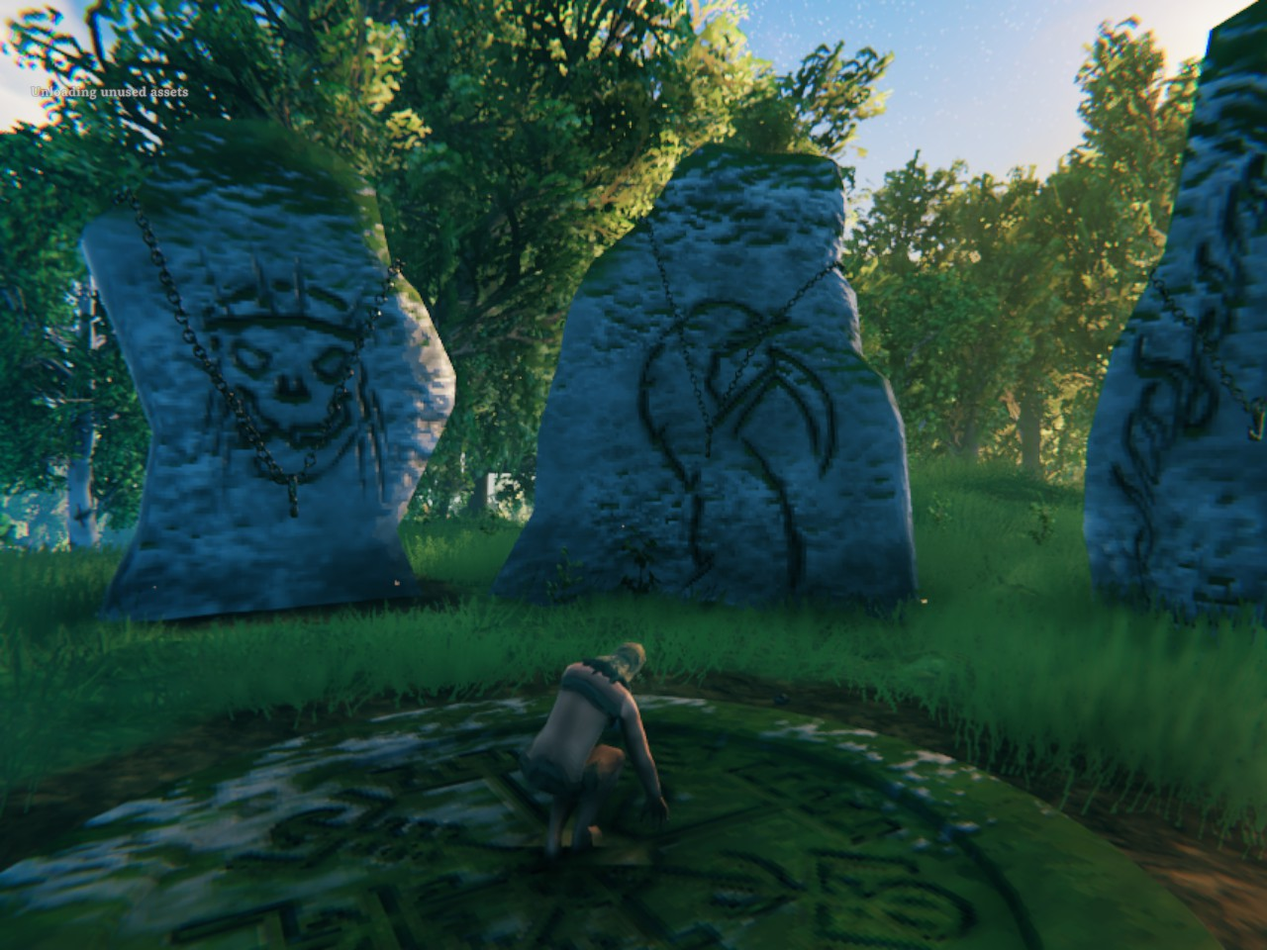Spawn Point: (0, 687, 1218, 949)
